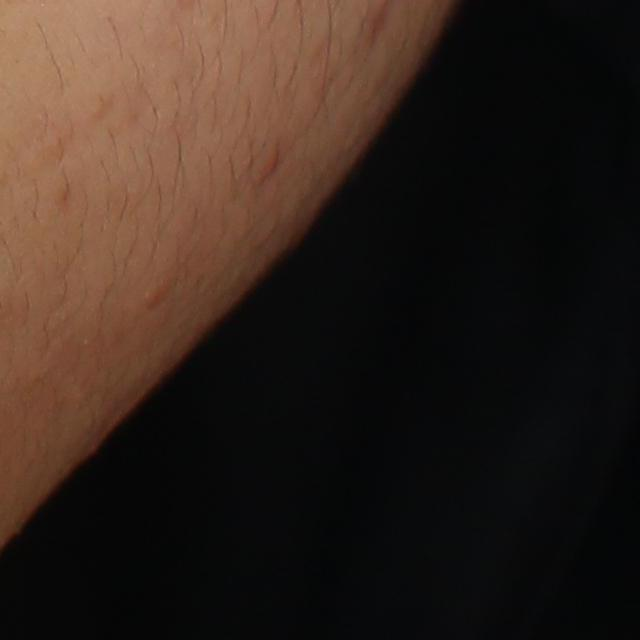papule: (260, 147, 282, 179)
